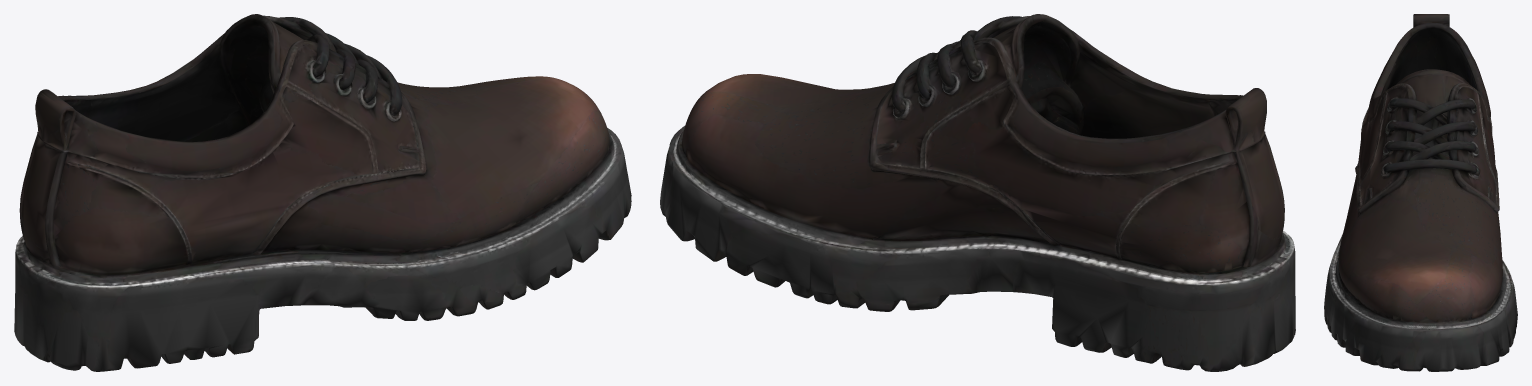
Rendered from derby.glb.
The picture shows the model from 3 angles, left to right: view 1: azimuth 30°, elevation 25°; view 2: azimuth 150°, elevation 25°; view 3: azimuth 270°, elevation 25°; orthographic projection. The views are drawn at different scales.
Parts seen in each view (by area): view 1: node_0; view 2: node_0; view 3: node_0.
Boxes of the visible parts, box(x1,y1,x2,y2) form: node_0: box(14, 14, 631, 371); node_0: box(660, 14, 1295, 371); node_0: box(1324, 14, 1517, 371).
Bounding box in the file's own units: 1.1 × 0.4957 × 0.431.
1 material, 1 textured.
